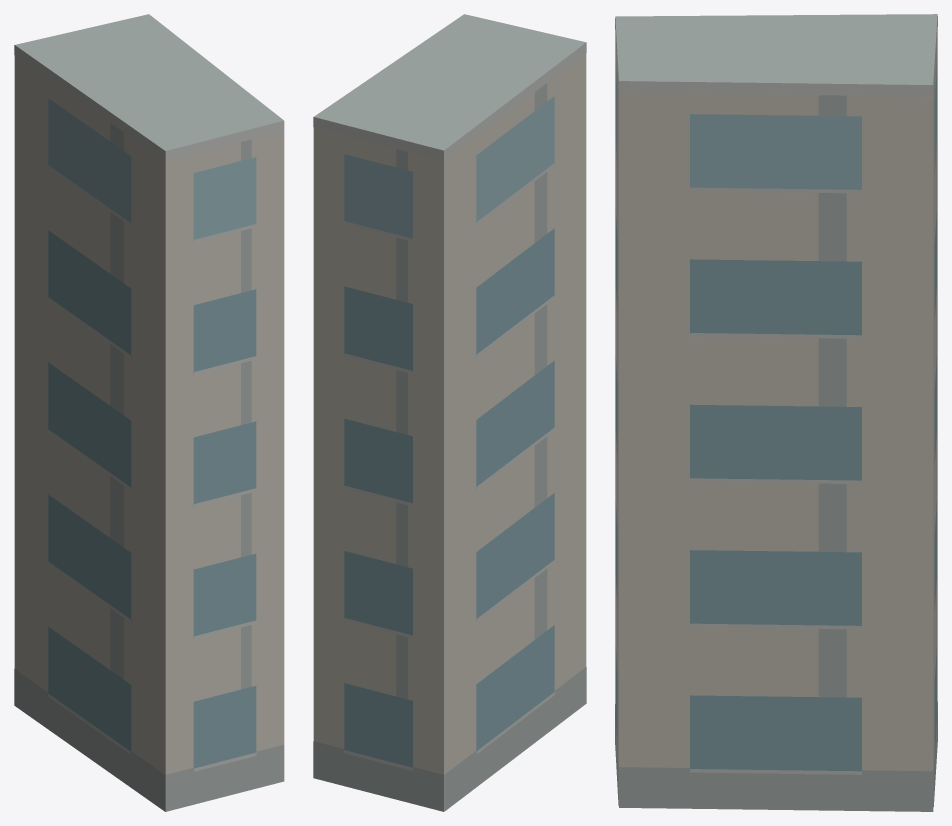
The model's file is survey-upis-32580897.glb.
3 renders of one model, left to right at view 1: azimuth 30°, elevation 25°; view 2: azimuth 150°, elevation 25°; view 3: azimuth 270°, elevation 25°, orthographic. The views are drawn at different scales.
Visible parts, largest first — view 1: survey-upis-32580897.tmp; view 2: survey-upis-32580897.tmp; view 3: survey-upis-32580897.tmp.
Boxes of the visible parts, bbox=[...] form: survey-upis-32580897.tmp: bbox=[14, 14, 284, 811]; survey-upis-32580897.tmp: bbox=[313, 14, 586, 811]; survey-upis-32580897.tmp: bbox=[615, 14, 937, 811].
Bounding box in the file's own units: 3.21 × 15.25 × 6.14.
